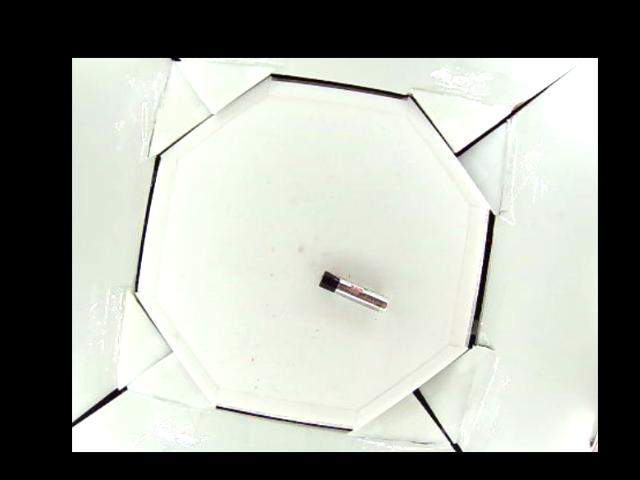Battery: (316, 269, 390, 312)
